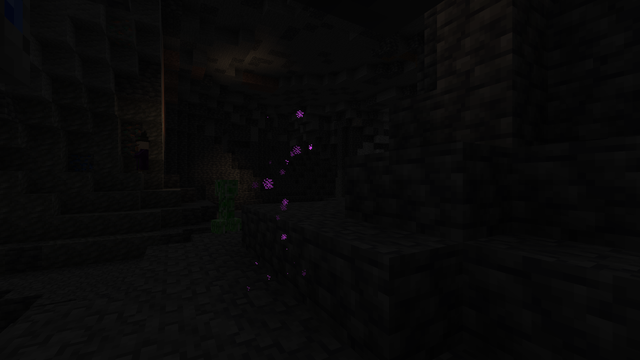creepers: (214, 177, 237, 233)
sorcieres: (135, 139, 148, 173)
